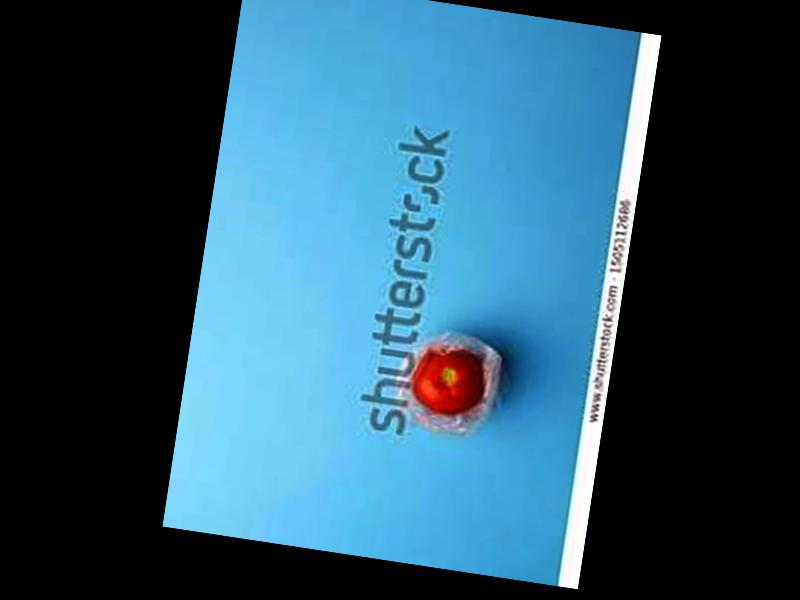Tomato: (409, 342, 487, 417)
